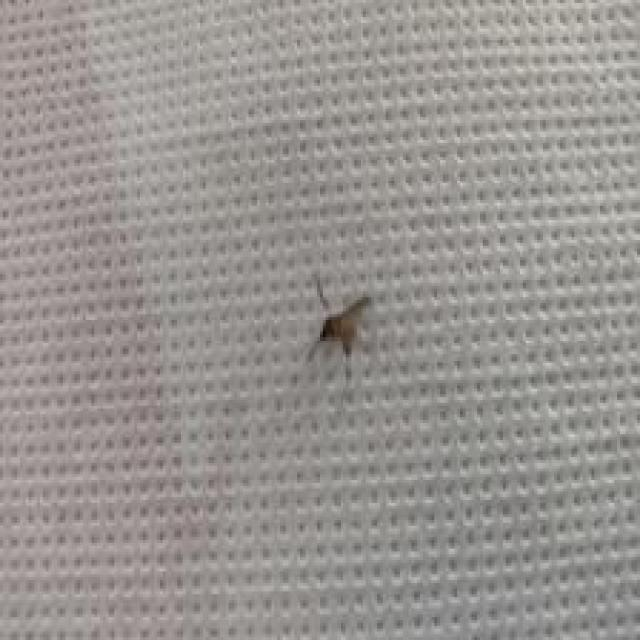Culex: (303, 271, 374, 383)
